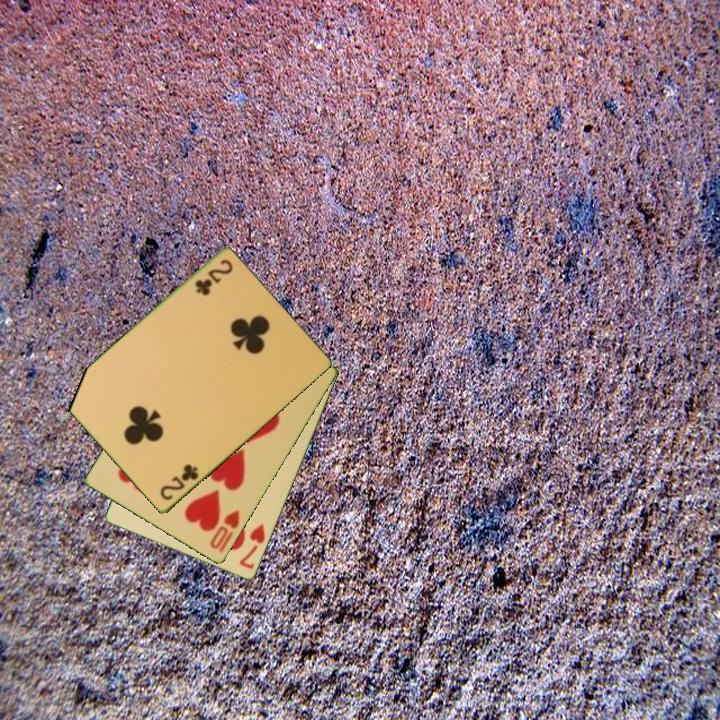10h: (206, 507, 243, 556)
2c: (156, 461, 202, 504), (191, 256, 236, 298)
7h: (236, 520, 268, 572)
